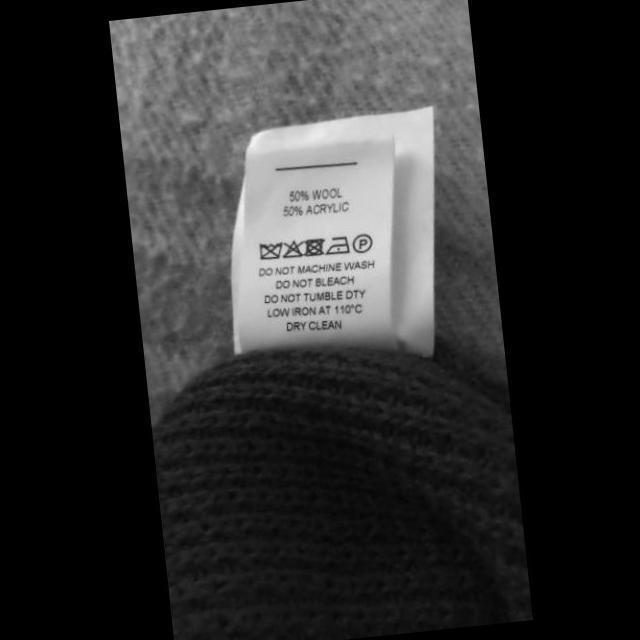DN_bleach: (279, 237, 308, 260)
DN_tumble_dry: (299, 235, 326, 258)
DN_wash: (255, 239, 284, 261)
iron_low: (322, 234, 351, 256)
normal_dry_clean_solvents: (350, 232, 374, 254)
